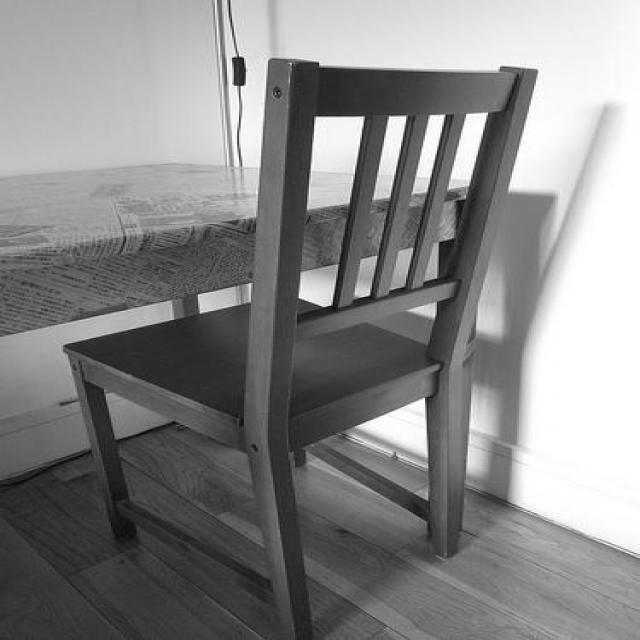chair: (71, 62, 542, 638)
